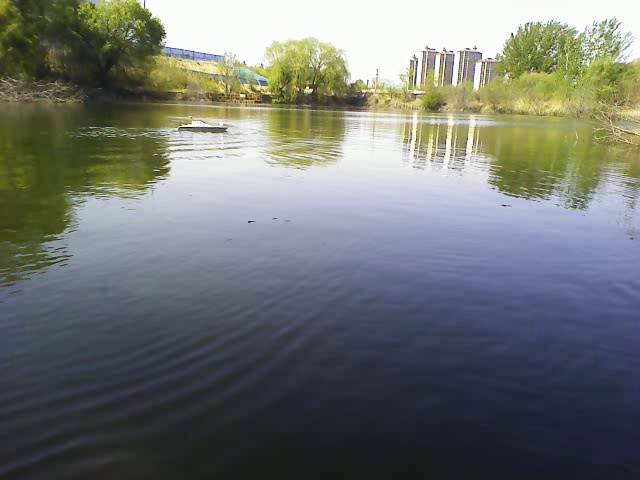boat: (176, 114, 234, 137)
